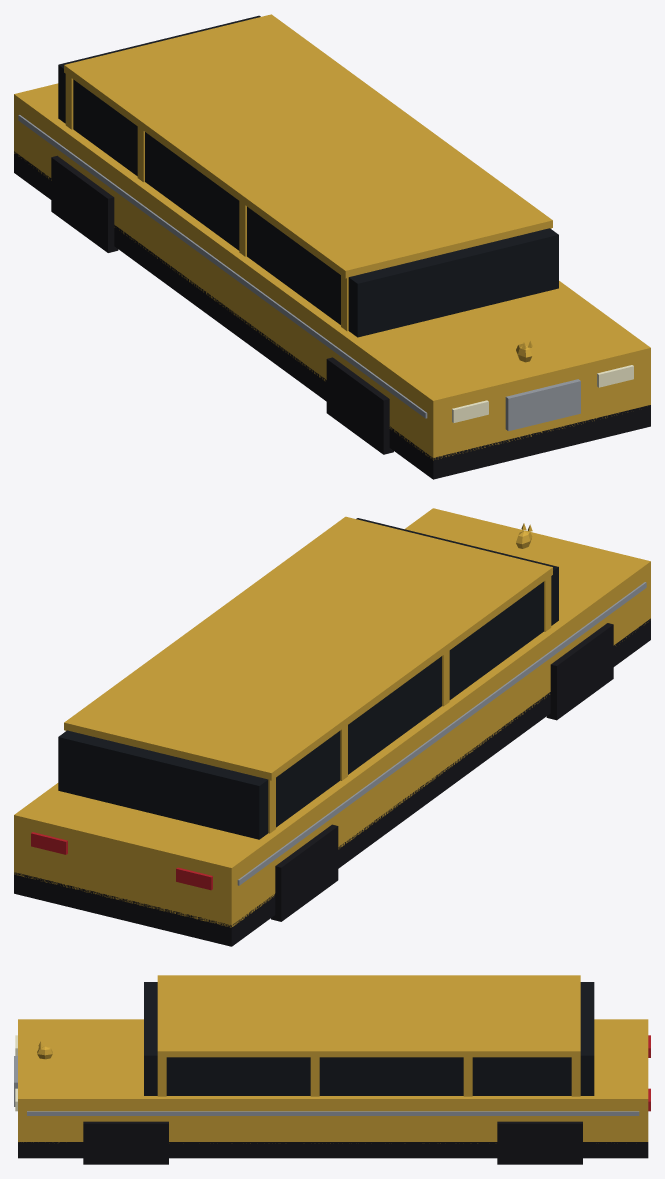
File: golden_limo.glb
3 renders of one model, top to bottom at view 1: azimuth 30°, elevation 25°; view 2: azimuth 150°, elevation 25°; view 3: azimuth 270°, elevation 25°, orthographic. The views are drawn at different scales.
Parts seen in each view (by area): view 1: body_limo_gold, body_getaway_glass, body_black, trim_chrome, body_chrome, frame_limo_gold; view 2: body_limo_gold, body_getaway_glass, body_black, trim_chrome, frame_limo_gold; view 3: body_limo_gold, body_getaway_glass, body_black, trim_chrome, frame_limo_gold.
Boxes of the visible parts, <box> form: body_limo_gold: <box>14,14,650,460</box>; body_getaway_glass: <box>58,15,558,337</box>; body_black: <box>14,151,650,479</box>; trim_chrome: <box>18,115,427,418</box>; body_chrome: <box>505,379,580,431</box>; frame_limo_gold: <box>65,74,551,331</box>; body_limo_gold: <box>14,508,650,927</box>; body_getaway_glass: <box>58,518,558,839</box>; body_black: <box>14,618,650,946</box>; trim_chrome: <box>237,582,646,885</box>; frame_limo_gold: <box>66,576,551,833</box>; body_limo_gold: <box>18,975,648,1143</box>; body_getaway_glass: <box>144,982,594,1095</box>; body_black: <box>18,1121,648,1164</box>; trim_chrome: <box>27,1111,639,1115</box>; frame_limo_gold: <box>157,1057,580,1096</box>.
Size of the model in its own units: 2.22 by 1.34 by 7.08.
